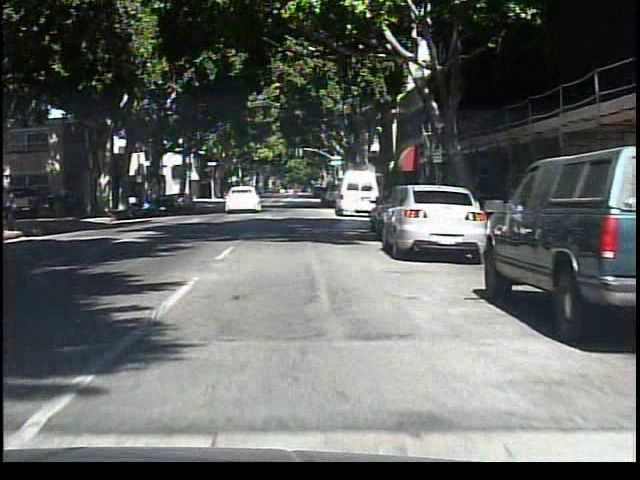person: (289, 174, 305, 205)
